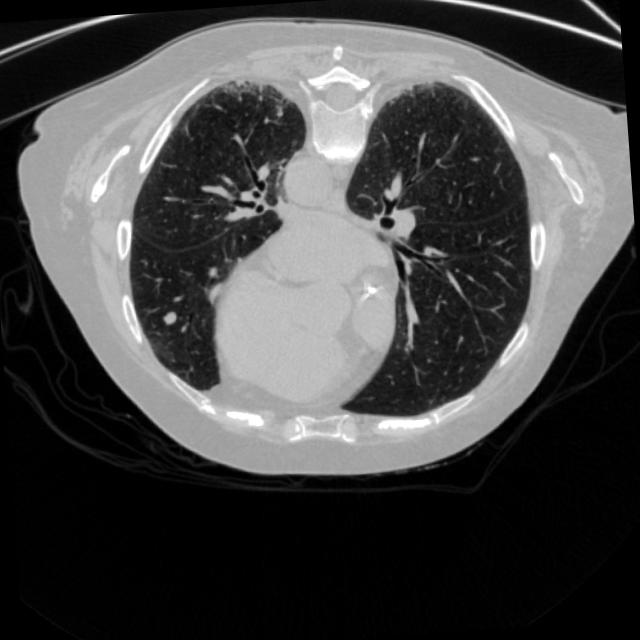nodule: (154, 302, 186, 334)
